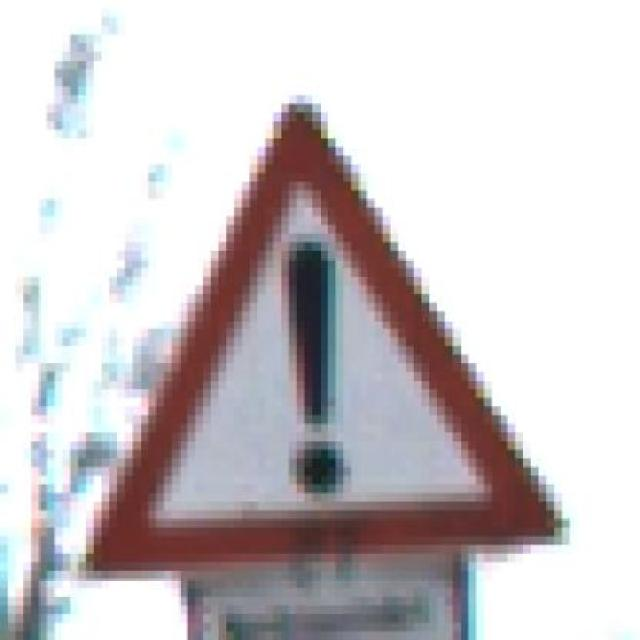Attention Please-: (62, 86, 593, 614)
